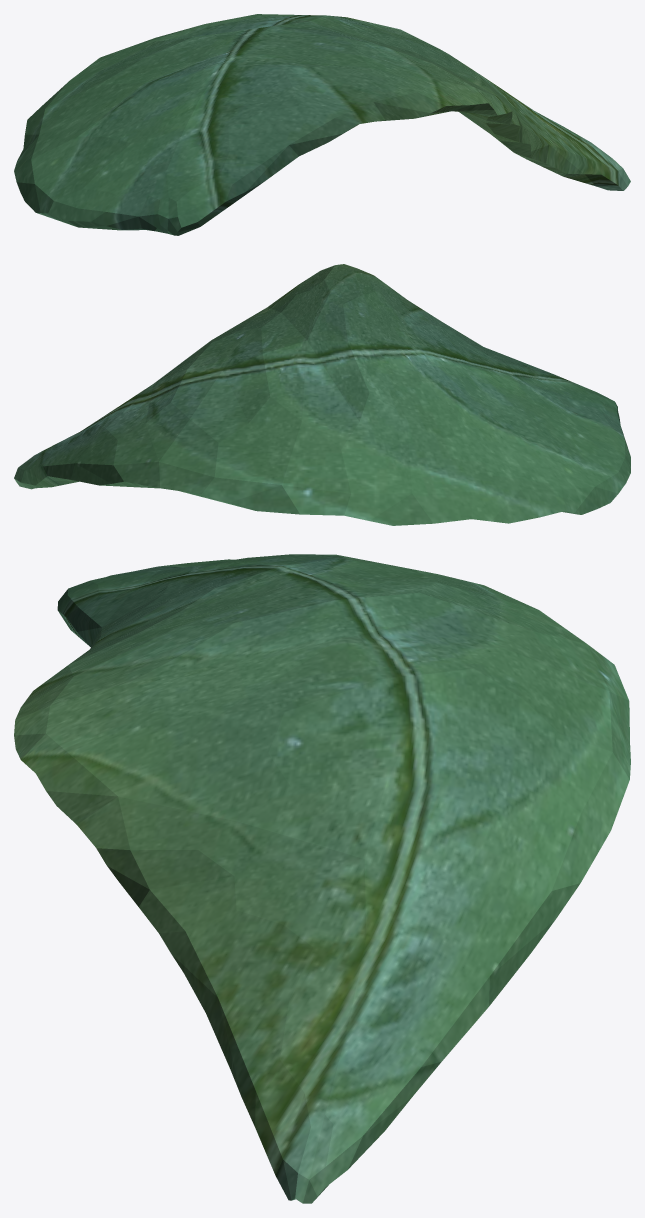
Rendered from leaf4.fbx.
3 views of the same model, one above another, from view 1: azimuth 30°, elevation 25°; view 2: azimuth 150°, elevation 25°; view 3: azimuth 270°, elevation 25° (orthographic). The views are drawn at different scales.
Visible parts, largest first — view 1: Plane; view 2: Plane; view 3: Plane.
Boxes of the visible parts, <box> form: Plane: <box>14,14,630,235</box>; Plane: <box>14,264,630,525</box>; Plane: <box>14,554,630,1203</box>.
Size of the model in its own units: 621 by 237 by 369.
Materials: 1 (1 with a texture image).
